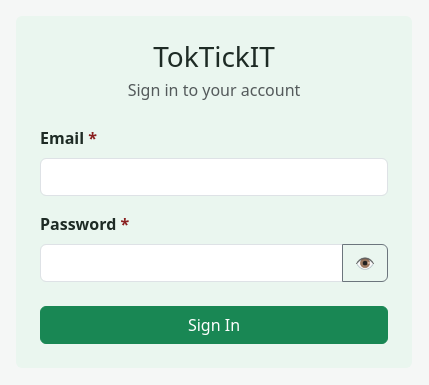
Login › UI-03 shows a busy state while the request is in flight
This screenshot has width=429, height=385.
Type "ada.lovelace@example.com" into the field labelled "Email *" at (214, 177), box [40,158,388,196]
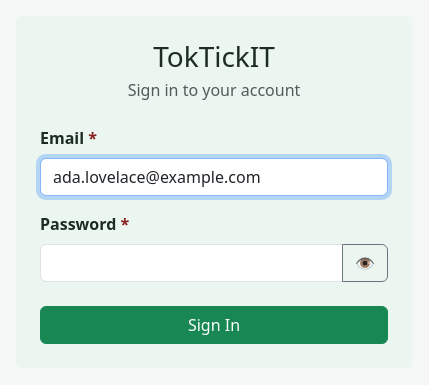
Type "ChangeMe123!" into the password field labelled "Password *" at (192, 263), box [40,244,343,282]
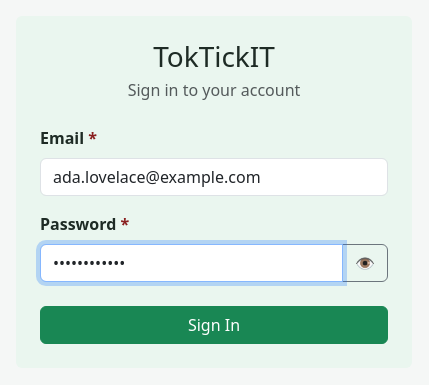
Click the button "Sign In" at (214, 325), box [40,306,388,344]
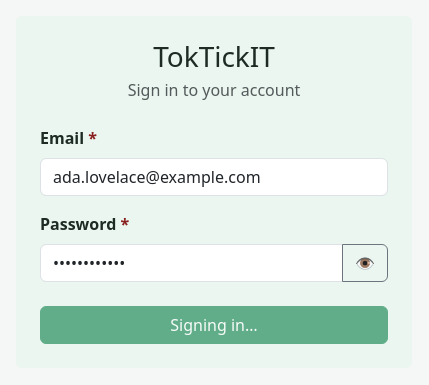
Result: the button "Signing in…" is disabled at [40,306,388,344]
